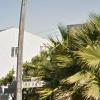Palm tree: (37, 10, 100, 100)
